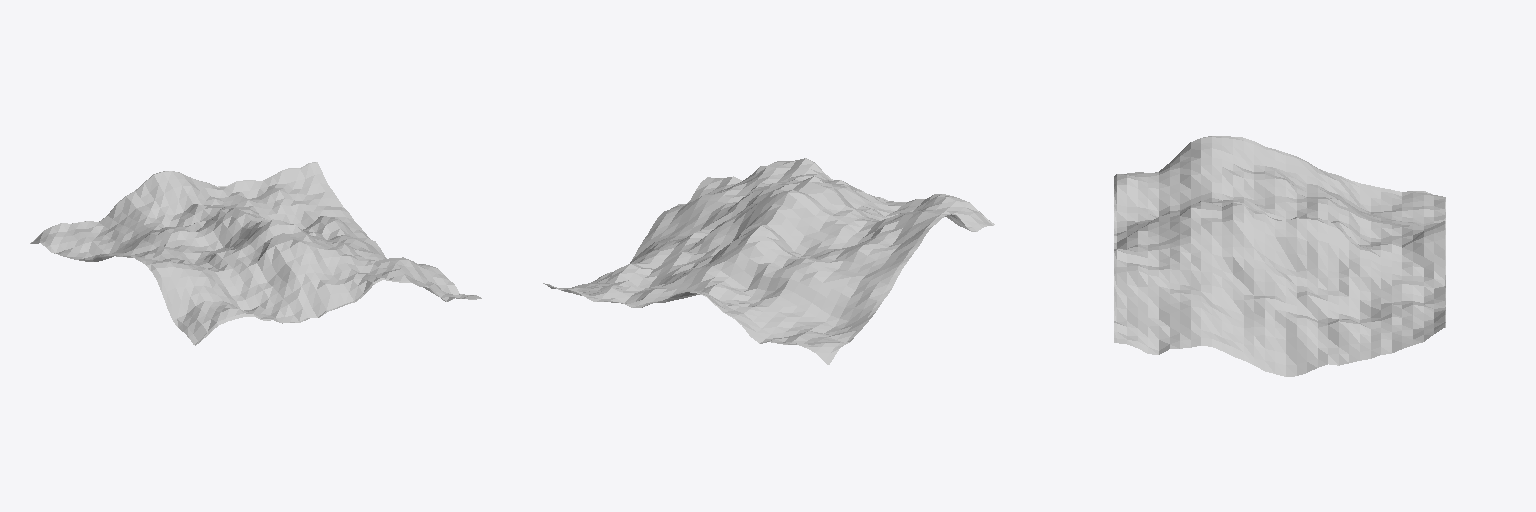
The model's file is heightmap.054.obj.
3 views of the same model, side by side, from view 1: azimuth 30°, elevation 25°; view 2: azimuth 150°, elevation 25°; view 3: azimuth 270°, elevation 25° (orthographic).
Visible parts, largest first — view 1: heightmap.054_Plane.054; view 2: heightmap.054_Plane.054; view 3: heightmap.054_Plane.054.
Part boxes in pixels (bbox=[...]): heightmap.054_Plane.054: bbox=[30, 162, 481, 345]; heightmap.054_Plane.054: bbox=[543, 158, 994, 364]; heightmap.054_Plane.054: bbox=[1114, 136, 1445, 376].
Bounding box in the file's own units: 32 × 10.82 × 32.